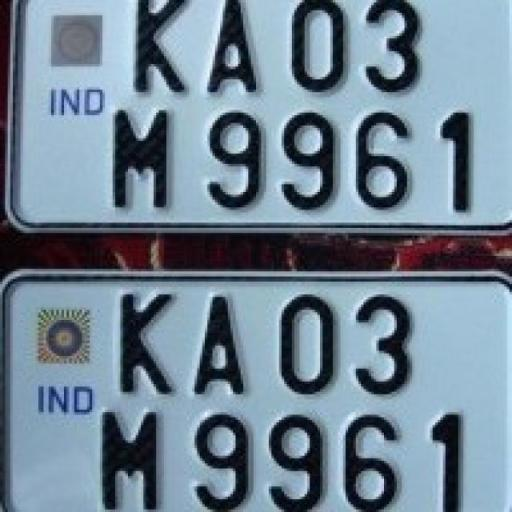number plate: (5, 0, 512, 246), (4, 266, 510, 512)
